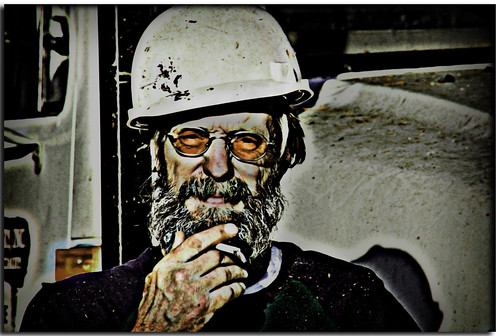person hardhat: (90, 8, 397, 323)
